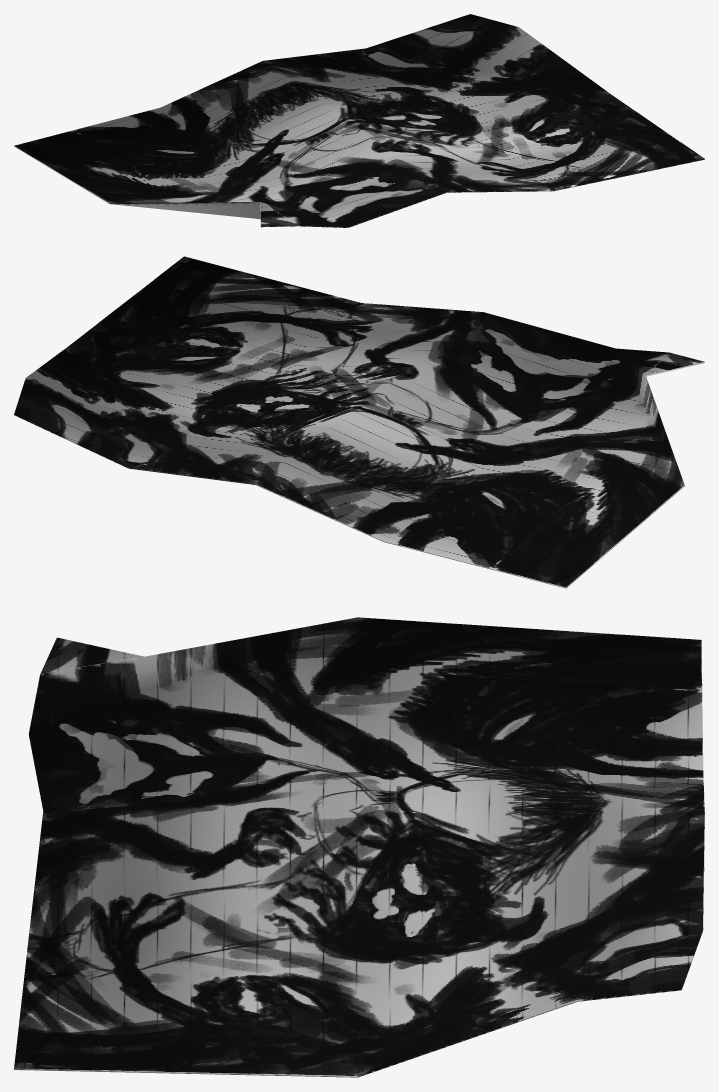
File: Dibujo 2.fbx
The picture shows the model from 3 angles, top to bottom: view 1: azimuth 30°, elevation 25°; view 2: azimuth 150°, elevation 25°; view 3: azimuth 270°, elevation 25°; orthographic projection. The views are drawn at different scales.
Parts seen in each view (by area): view 1: Papel 2; view 2: Papel 2; view 3: Papel 2.
Part boxes in pixels (x1=…): Papel 2: x1=14, y1=14, x2=704, y2=227; Papel 2: x1=14, y1=256, x2=704, y2=588; Papel 2: x1=14, y1=617, x2=704, y2=1077.
Size of the model in its own units: 29.83 by 2.05 by 19.89.
Materials: 1 (1 with a texture image).
